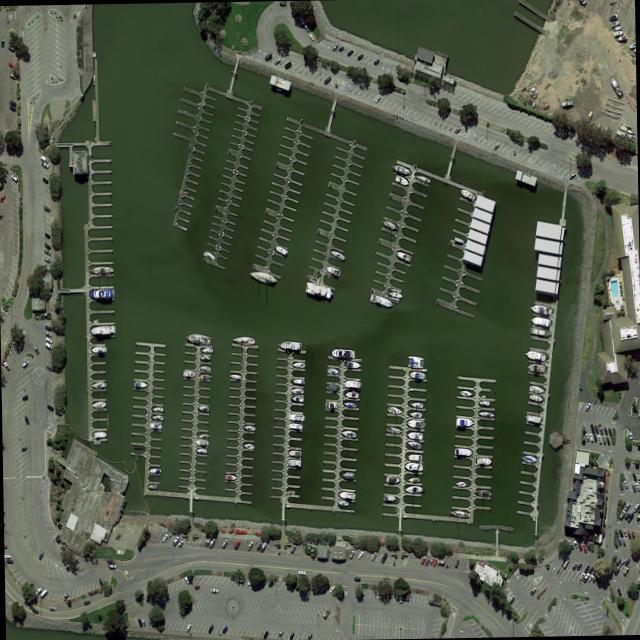large-vehicle: (429, 597, 442, 606), (39, 587, 47, 598), (44, 341, 53, 350), (34, 586, 42, 595), (39, 154, 48, 162), (44, 335, 52, 344), (21, 359, 29, 367)
ship: (305, 279, 334, 300), (249, 268, 277, 286), (370, 293, 393, 308), (186, 332, 211, 345), (609, 75, 623, 97), (530, 303, 552, 316), (88, 288, 114, 299), (392, 162, 412, 176), (525, 348, 546, 361), (530, 325, 552, 337), (530, 315, 550, 327), (90, 264, 114, 274), (331, 348, 355, 358), (278, 340, 302, 350), (407, 354, 424, 368), (232, 335, 255, 345), (456, 416, 474, 428), (91, 325, 115, 334), (459, 188, 475, 201), (522, 452, 539, 464), (395, 173, 409, 187), (329, 248, 345, 260), (325, 265, 341, 277), (527, 362, 546, 372), (414, 173, 431, 184), (202, 248, 216, 261), (396, 250, 411, 262), (343, 379, 361, 389), (450, 509, 469, 518), (382, 219, 397, 230), (404, 485, 422, 494), (454, 447, 472, 456), (407, 419, 425, 428), (387, 405, 403, 415), (529, 384, 545, 394), (274, 244, 288, 255), (405, 462, 423, 470), (288, 413, 305, 421), (529, 393, 544, 402), (341, 429, 356, 438), (346, 360, 361, 369), (386, 426, 402, 434), (339, 491, 355, 499), (409, 371, 425, 379), (386, 474, 400, 483), (477, 457, 492, 465), (477, 410, 494, 417), (407, 432, 423, 439), (407, 440, 421, 448), (90, 381, 106, 388), (585, 109, 593, 123), (475, 489, 490, 496), (91, 346, 106, 353), (91, 401, 106, 408), (325, 401, 338, 409), (288, 459, 301, 467), (408, 454, 422, 461), (410, 401, 424, 408), (93, 431, 107, 438), (134, 380, 148, 387), (345, 391, 359, 398), (342, 471, 354, 479), (326, 384, 338, 392), (196, 439, 209, 446), (327, 367, 340, 374), (149, 422, 162, 429), (289, 422, 302, 429), (292, 361, 305, 368), (608, 12, 618, 21), (454, 236, 465, 244), (460, 389, 472, 396), (201, 347, 213, 354), (199, 364, 211, 371), (183, 370, 195, 377), (151, 414, 163, 421), (225, 473, 237, 480), (290, 388, 304, 394), (616, 34, 628, 41), (561, 99, 573, 106), (383, 495, 396, 501), (343, 401, 356, 407), (288, 450, 301, 456), (198, 405, 209, 412), (198, 432, 209, 439), (243, 442, 254, 449), (410, 411, 422, 417), (149, 467, 161, 473), (293, 378, 305, 384), (291, 395, 303, 401), (542, 101, 550, 110), (610, 20, 620, 27), (529, 86, 536, 96), (455, 481, 466, 487), (200, 354, 211, 360), (200, 373, 211, 379), (152, 406, 163, 412), (230, 373, 241, 379), (613, 30, 624, 36), (408, 477, 419, 482), (479, 400, 490, 405), (196, 448, 207, 453), (244, 425, 255, 430), (339, 500, 348, 506), (147, 483, 156, 489), (614, 25, 622, 31), (533, 89, 538, 98), (287, 490, 294, 495)
small-vehicle: (208, 536, 216, 548), (259, 541, 267, 553), (40, 159, 49, 169), (322, 606, 330, 617), (172, 535, 180, 546), (220, 538, 228, 549), (3, 361, 11, 372), (234, 538, 241, 550), (8, 71, 17, 80), (562, 558, 570, 568), (507, 593, 515, 603), (246, 540, 253, 551), (627, 512, 634, 523), (596, 433, 603, 444), (381, 552, 388, 563), (624, 555, 630, 567), (598, 423, 604, 435), (588, 431, 594, 443), (43, 242, 51, 251), (43, 255, 51, 264), (7, 43, 16, 51), (289, 545, 297, 554), (493, 141, 501, 150), (374, 93, 382, 102), (323, 75, 331, 84), (204, 536, 211, 546), (618, 509, 625, 519), (632, 502, 639, 512), (624, 501, 631, 511), (618, 557, 625, 567), (583, 572, 590, 582), (622, 566, 629, 576), (256, 541, 263, 551), (455, 125, 462, 135), (302, 22, 309, 32), (208, 623, 214, 634), (584, 431, 590, 442), (585, 401, 591, 412), (349, 549, 355, 560), (568, 171, 576, 179), (41, 176, 49, 184), (264, 53, 272, 61), (107, 562, 116, 569), (162, 532, 169, 541), (183, 575, 190, 584), (277, 628, 284, 637), (578, 572, 585, 581), (587, 573, 594, 582), (588, 565, 595, 574), (584, 564, 591, 573), (571, 561, 578, 570), (10, 173, 17, 182), (43, 204, 50, 213), (8, 60, 15, 69), (47, 403, 54, 412), (329, 584, 336, 593), (314, 585, 321, 594), (530, 586, 537, 595), (371, 551, 378, 560), (145, 531, 151, 541), (186, 622, 192, 632), (618, 528, 624, 538), (624, 511, 630, 521), (568, 539, 574, 549), (576, 561, 582, 571), (290, 582, 296, 592), (590, 423, 595, 435), (614, 566, 620, 576), (0, 192, 6, 202), (420, 555, 426, 565), (424, 556, 430, 566), (299, 14, 305, 24), (247, 577, 254, 585), (286, 582, 293, 590), (44, 232, 51, 240), (21, 444, 28, 452), (358, 550, 365, 558), (284, 61, 291, 69), (331, 43, 338, 51), (357, 53, 364, 61), (373, 57, 380, 65), (623, 478, 628, 489), (627, 428, 632, 439), (38, 551, 44, 560), (236, 577, 245, 583), (289, 631, 295, 640), (263, 630, 269, 639), (620, 500, 626, 509), (615, 556, 621, 565), (303, 584, 309, 593), (603, 427, 609, 436), (626, 589, 632, 598), (24, 415, 30, 424), (33, 345, 39, 354), (429, 555, 435, 564), (274, 56, 280, 65), (308, 32, 314, 41), (138, 618, 143, 628), (622, 527, 627, 537), (635, 481, 640, 491), (586, 541, 591, 551), (582, 542, 587, 552), (606, 436, 611, 446), (593, 423, 598, 433), (601, 434, 606, 444), (12, 340, 17, 350), (455, 558, 460, 568), (10, 100, 17, 107), (320, 584, 327, 591), (22, 394, 29, 401), (45, 330, 52, 337), (178, 539, 184, 547), (222, 626, 228, 634), (296, 582, 302, 590), (592, 575, 598, 583), (268, 580, 274, 588), (46, 365, 54, 371), (44, 325, 52, 331), (347, 48, 353, 56), (141, 617, 146, 626), (621, 537, 626, 546), (617, 536, 622, 545), (573, 539, 578, 548), (578, 542, 583, 551), (149, 617, 154, 626), (617, 587, 622, 596), (433, 557, 438, 566), (376, 589, 381, 598), (63, 593, 69, 600), (44, 249, 51, 255), (98, 578, 103, 586), (307, 632, 312, 640), (48, 605, 56, 610), (627, 530, 631, 540), (632, 483, 636, 493), (593, 434, 598, 442), (297, 570, 306, 574), (146, 593, 150, 602), (608, 428, 612, 437), (9, 105, 15, 111), (406, 592, 410, 601), (338, 45, 344, 51), (194, 585, 201, 590), (6, 559, 13, 564), (279, 2, 287, 6), (211, 588, 219, 592), (636, 513, 640, 521), (631, 531, 635, 539), (632, 473, 636, 481), (149, 594, 153, 602), (353, 577, 361, 581), (437, 559, 445, 563), (84, 599, 90, 604), (637, 473, 640, 483), (1, 37, 4, 47), (399, 593, 402, 603), (395, 588, 398, 598), (637, 505, 640, 512), (638, 408, 640, 417)
